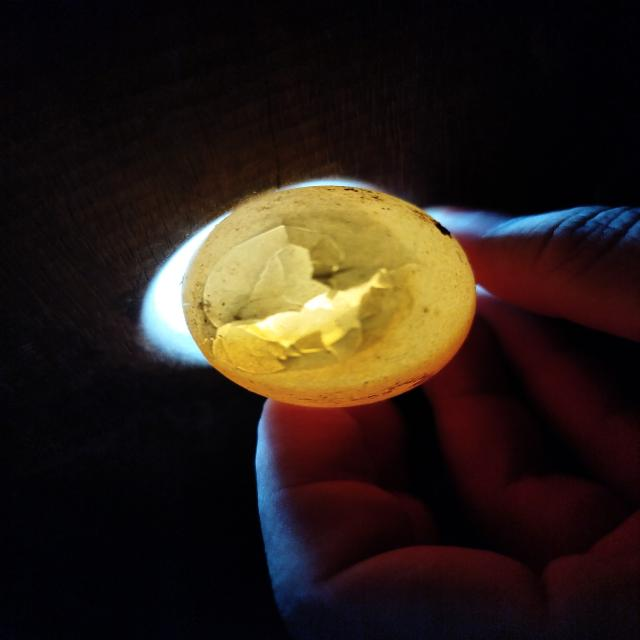Rachadura: (199, 222, 418, 375)
